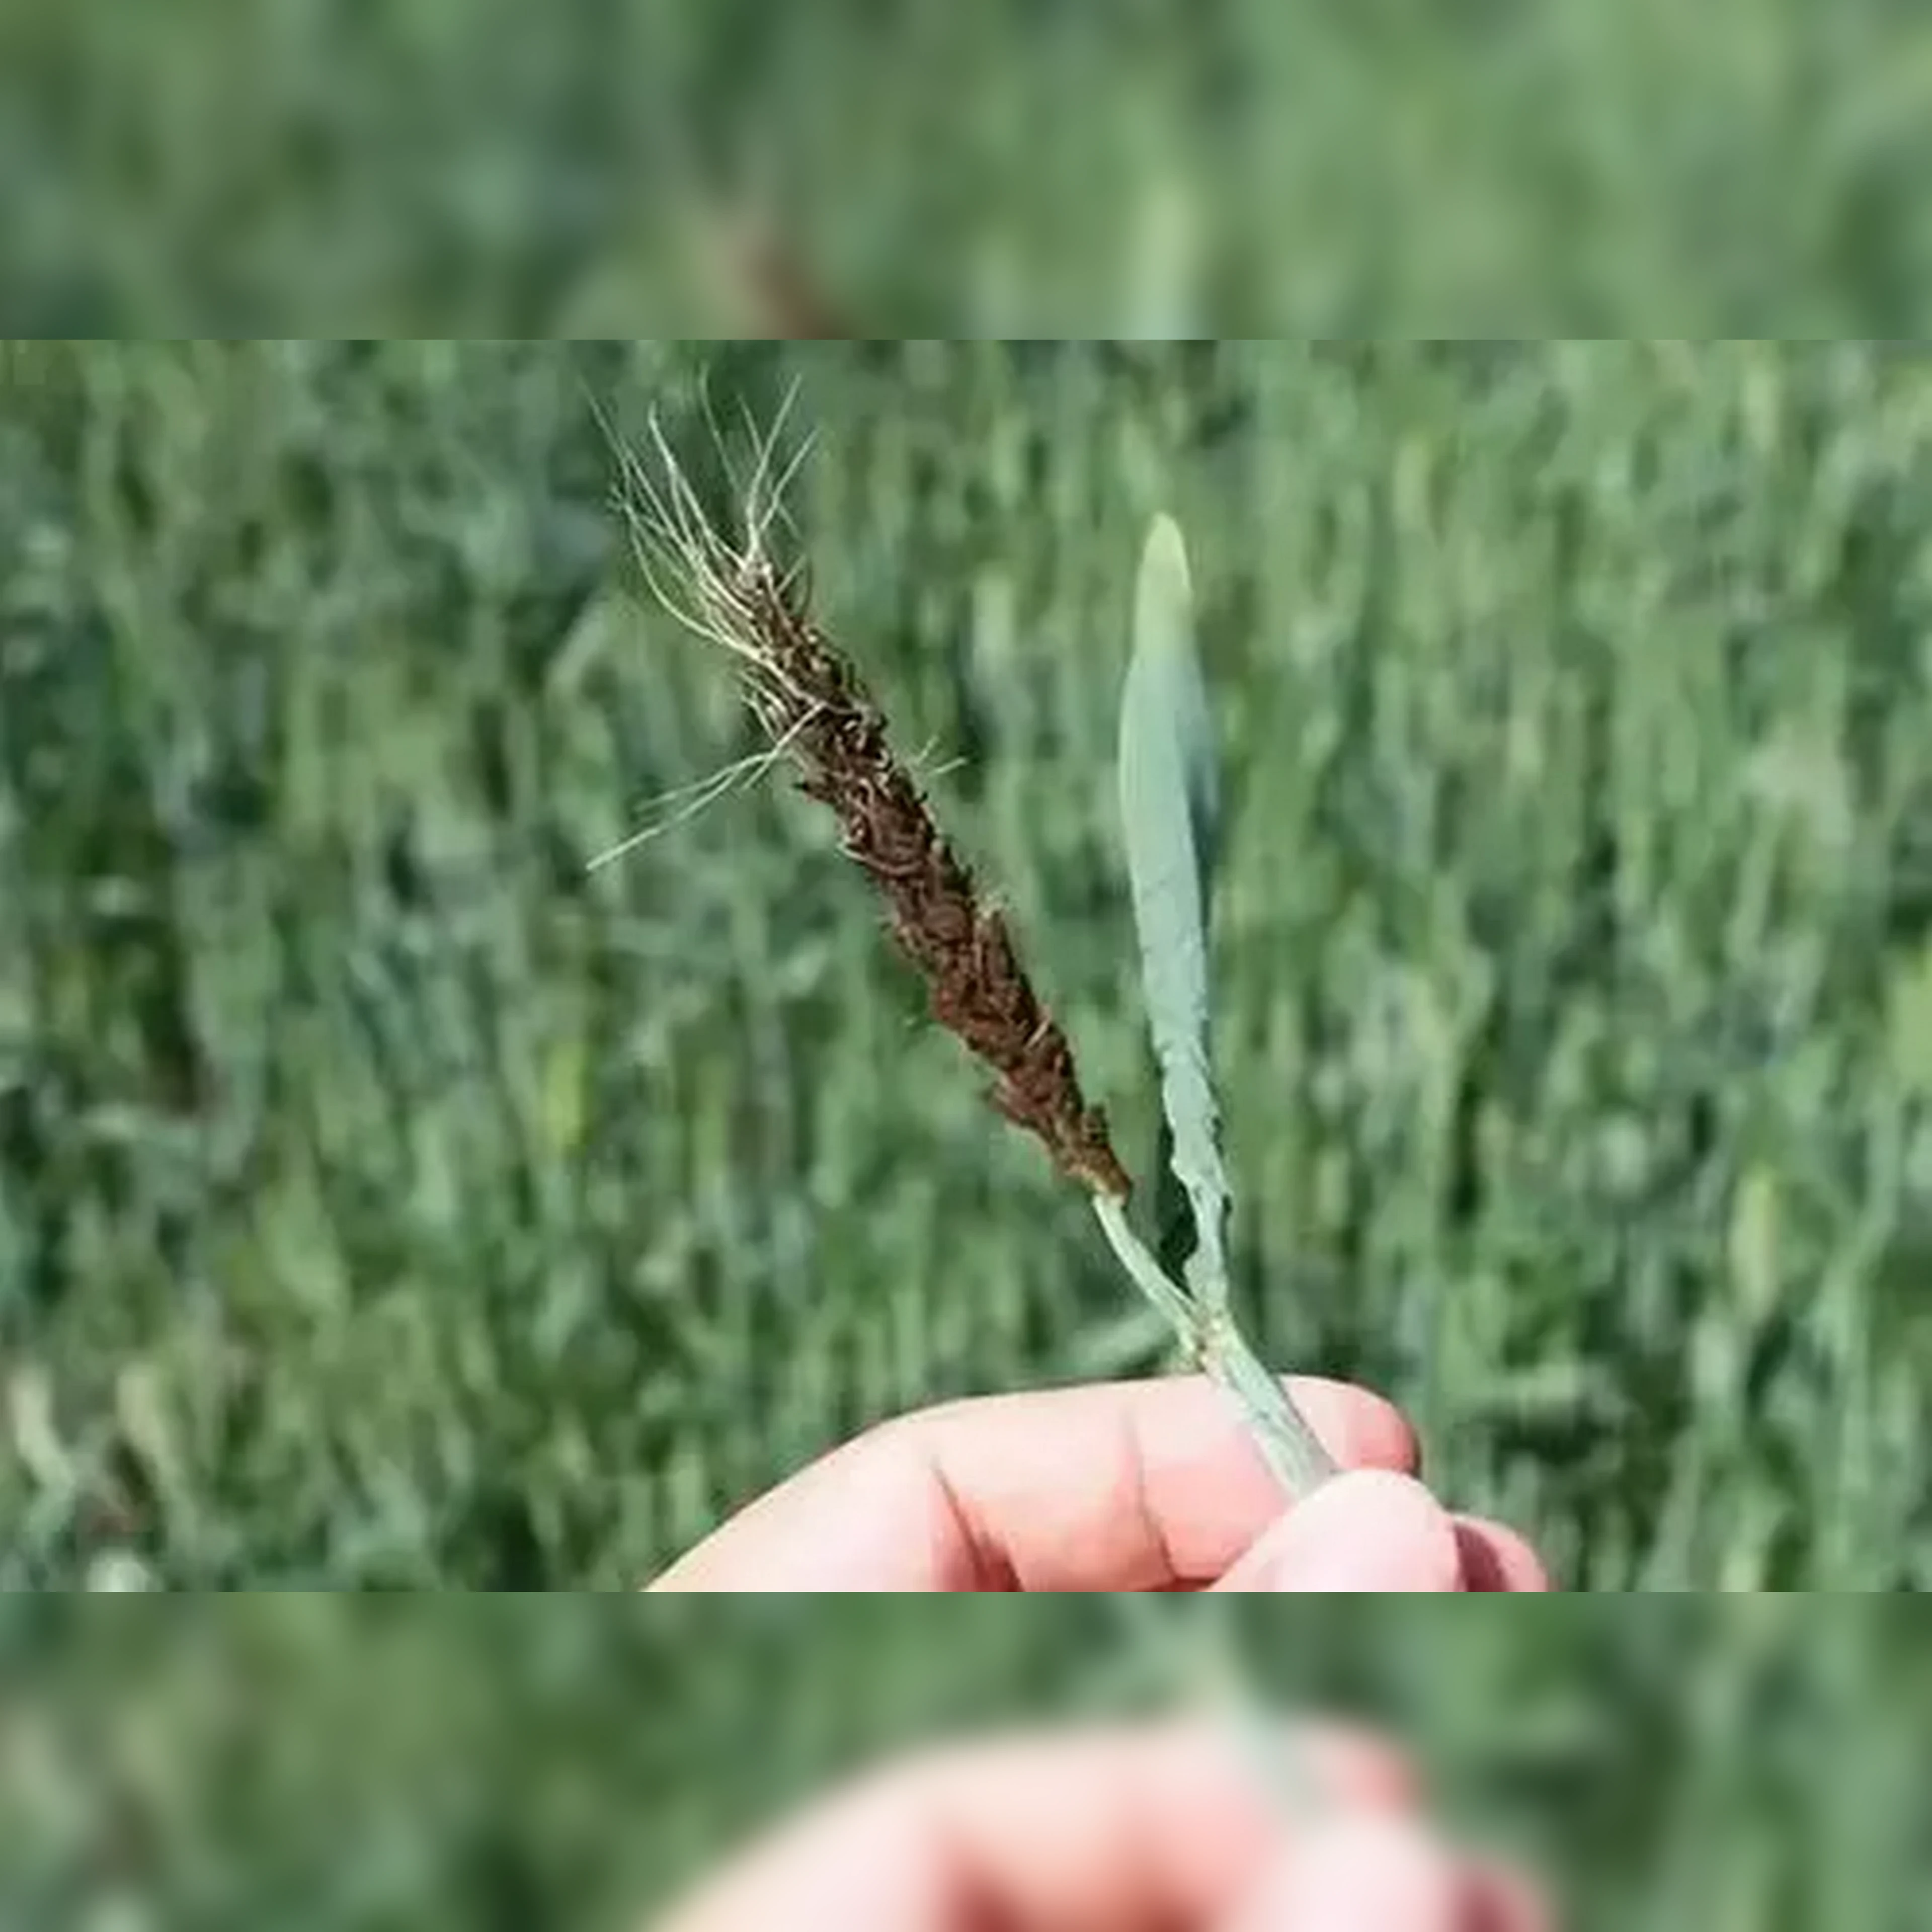Wheat Loose Smut: (649, 467, 1141, 1210)
